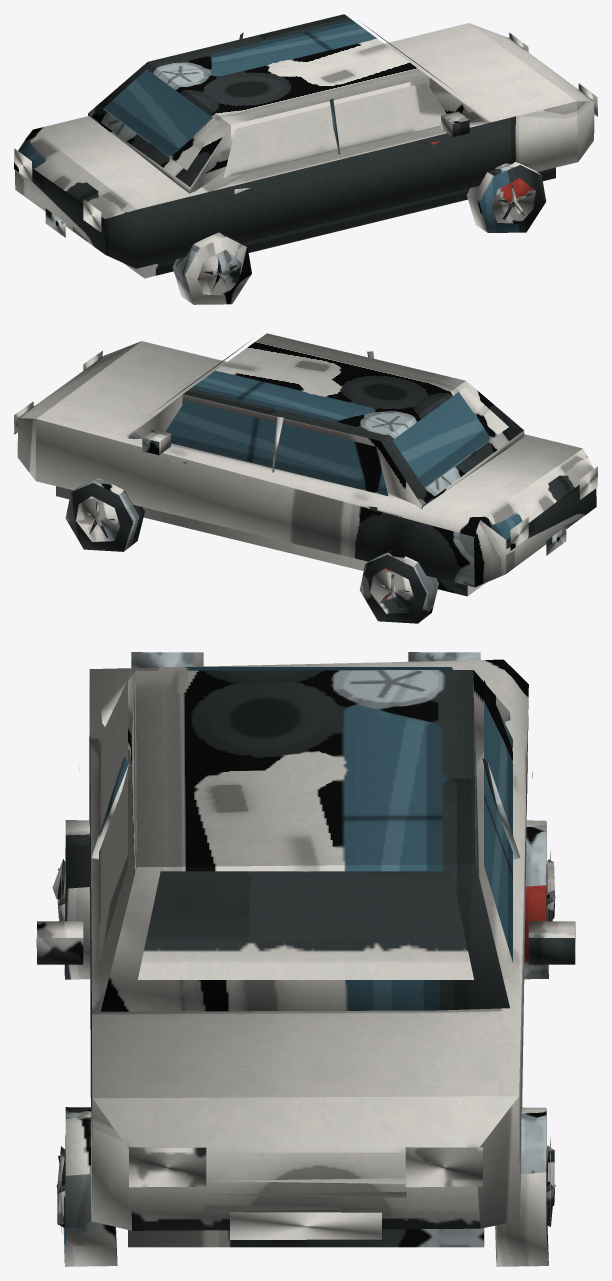
Rendered from sedan.lod1.obj.
3 renders of one model, top to bottom at view 1: azimuth 30°, elevation 25°; view 2: azimuth 150°, elevation 25°; view 3: azimuth 270°, elevation 25°, orthographic. The views are drawn at different scales.
Visible parts, largest first — view 1: sedan; view 2: sedan; view 3: sedan.
Boxes of the visible parts, x1,y1,x2,y2 form: sedan: [14, 14, 597, 304]; sedan: [14, 333, 597, 623]; sedan: [36, 652, 575, 1266].
Size of the model in its own units: 4.62 by 1.47 by 2.15.
1 material, 1 textured.
